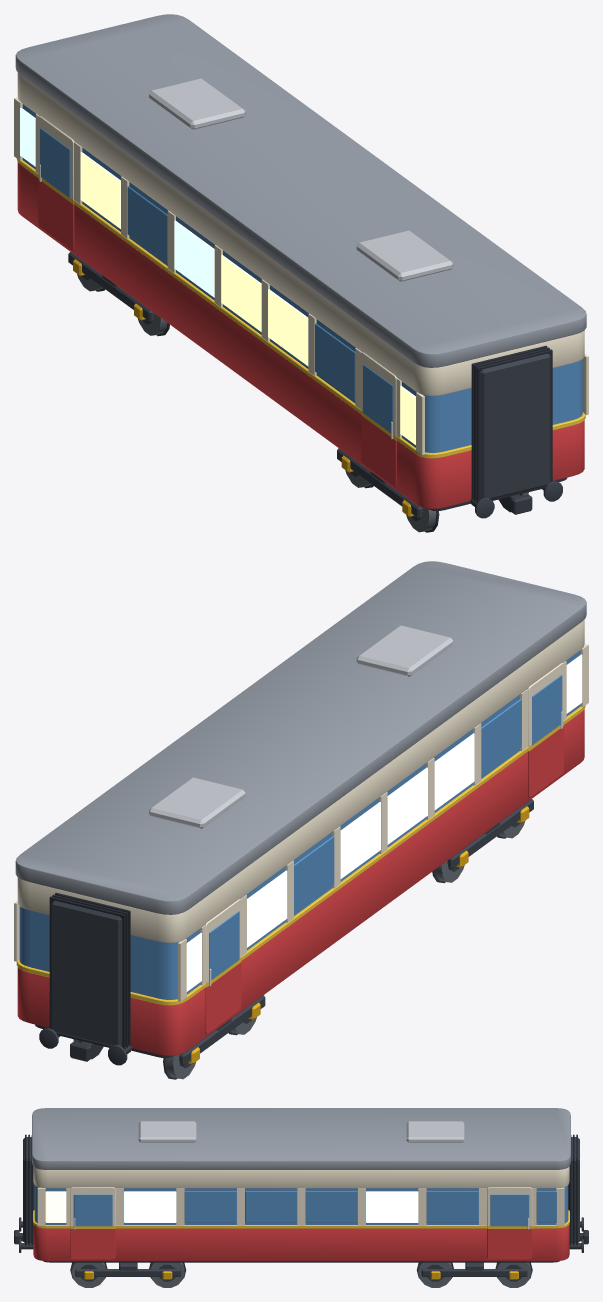
The model's file is trem_vagao_passageiros.glb.
The picture shows the model from 3 angles, top to bottom: view 1: azimuth 30°, elevation 25°; view 2: azimuth 150°, elevation 25°; view 3: azimuth 270°, elevation 25°; orthographic projection. The views are drawn at different scales.
Parts seen in each view (by area): view 1: trem_vagao_passageiros, porta_correr_2, porta_correr_1; view 2: trem_vagao_passageiros, porta_correr_2, porta_correr_1; view 3: trem_vagao_passageiros, porta_correr_3, porta_correr_4, roda_2, roda_3, roda_1, roda_4.
Boxes of the visible parts, x1,y1,x2,y2 form: trem_vagao_passageiros: [14, 14, 588, 518]; porta_correr_2: [38, 116, 74, 250]; porta_correr_1: [361, 352, 396, 486]; trem_vagao_passageiros: [14, 561, 588, 1065]; porta_correr_2: [205, 899, 241, 1033]; porta_correr_1: [528, 663, 563, 797]; trem_vagao_passageiros: [14, 1108, 588, 1279]; porta_correr_3: [70, 1187, 115, 1259]; porta_correr_4: [487, 1187, 532, 1259]; roda_2: [149, 1262, 186, 1287]; roda_3: [416, 1262, 453, 1287]; roda_1: [70, 1262, 107, 1287]; roda_4: [495, 1262, 532, 1287].
Size of the model in its own units: 3.09 by 3.86 by 13.94.
4 materials, 1 textured.
